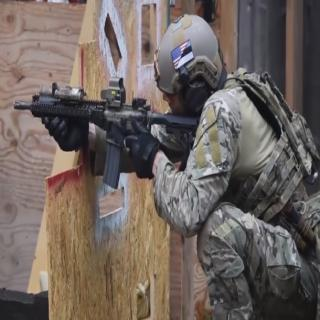gun: (13, 76, 199, 190)
